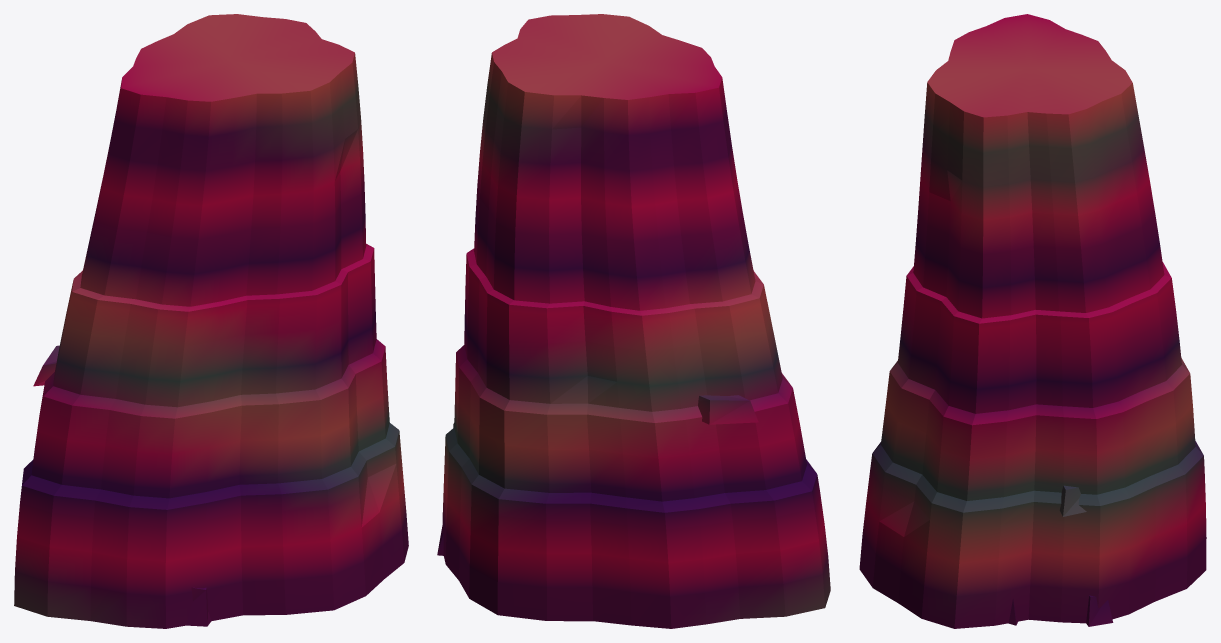
File: SM_CinderCanyon_Rock_E.fbx
3 renders of one model, left to right at view 1: azimuth 30°, elevation 25°; view 2: azimuth 150°, elevation 25°; view 3: azimuth 270°, elevation 25°, orthographic.
Parts seen in each view (by area): view 1: SM_CinderCanyon_Rock_E; view 2: SM_CinderCanyon_Rock_E; view 3: SM_CinderCanyon_Rock_E.
Part boxes in pixels (x1,y1,x2,y2): SM_CinderCanyon_Rock_E: (14,14,408,628); SM_CinderCanyon_Rock_E: (437,14,830,628); SM_CinderCanyon_Rock_E: (859,14,1206,628).
Size of the model in its own units: 100 by 84 by 132.
